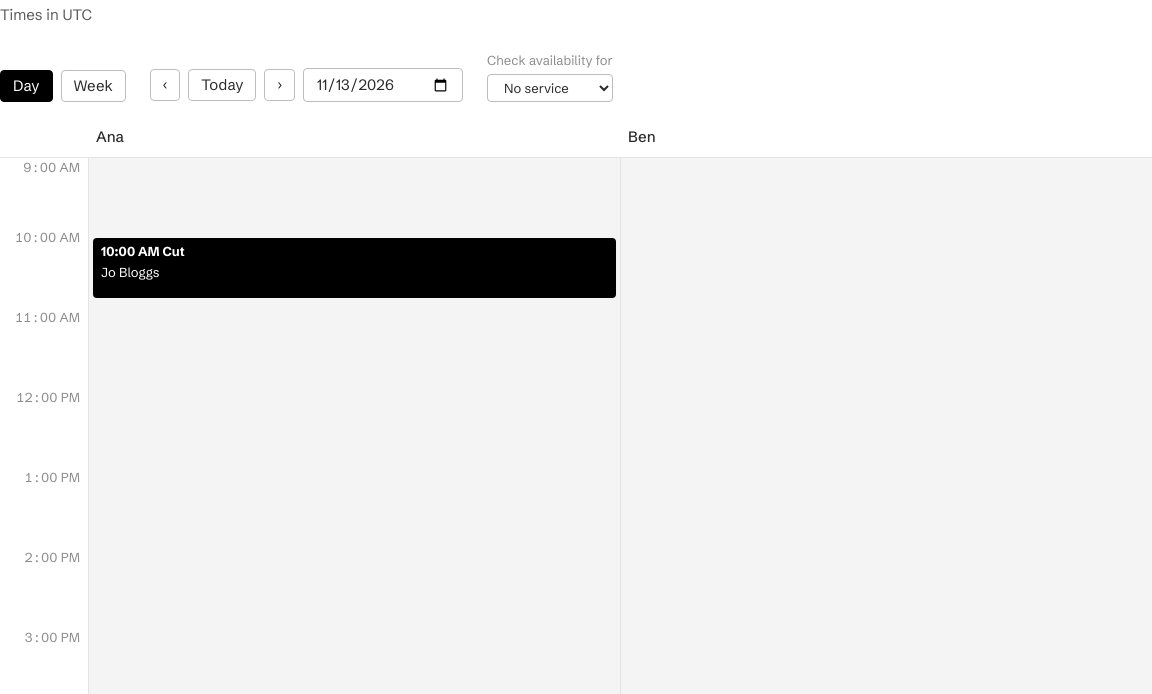
Calendar › shows an appointment's history on request
This screenshot has width=1152, height=694.
Click the button "10:00 AM Cut Jo Bloggs".
click(130, 251)  # box [93,238,616,298]
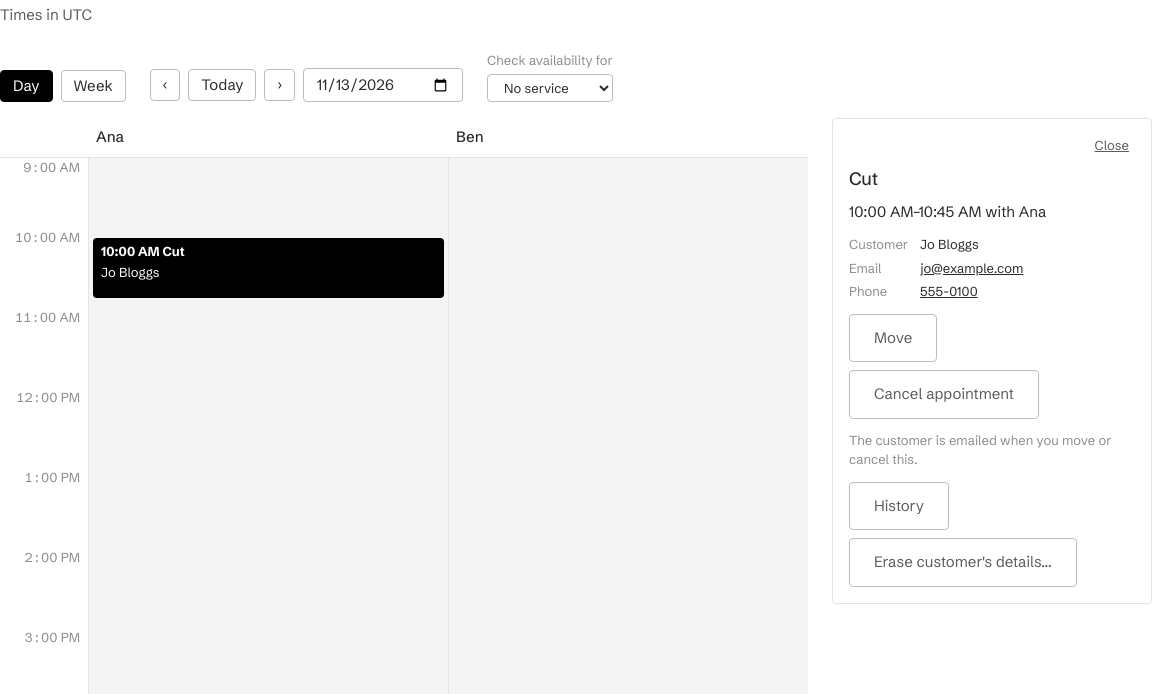
Click the button "History".
click(899, 506)  # box [849,482,949,530]
(page scrolled)
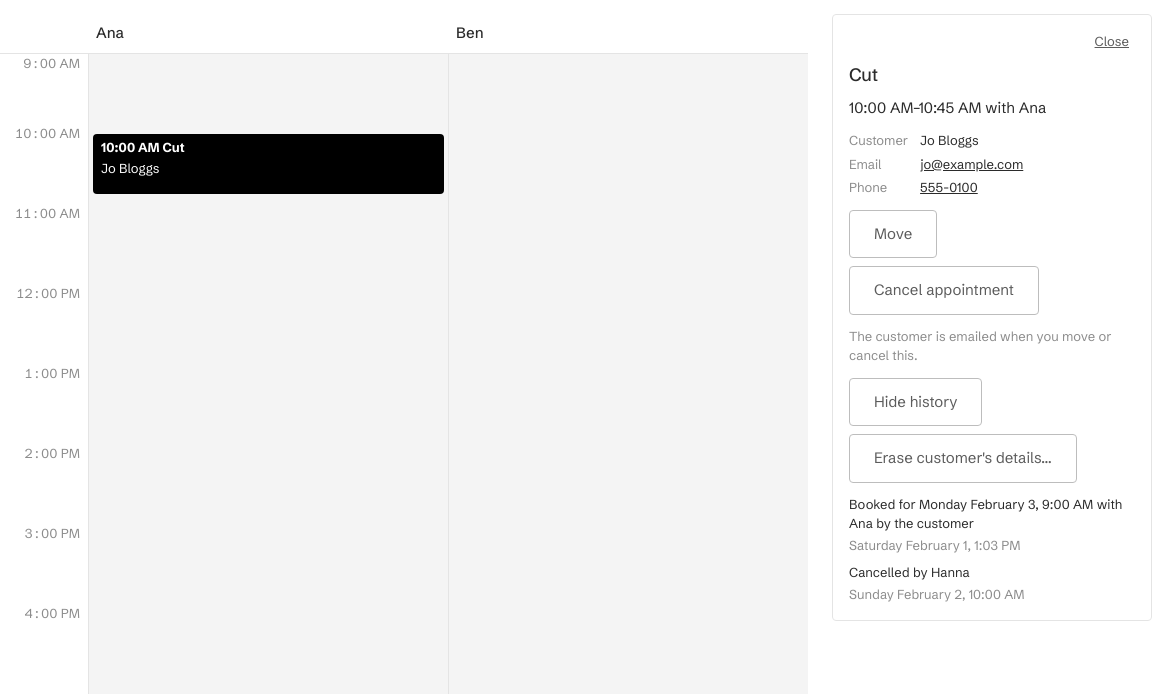
Now the list named "History" shows "Cancelled by Hanna", box [849,564,970,580]
